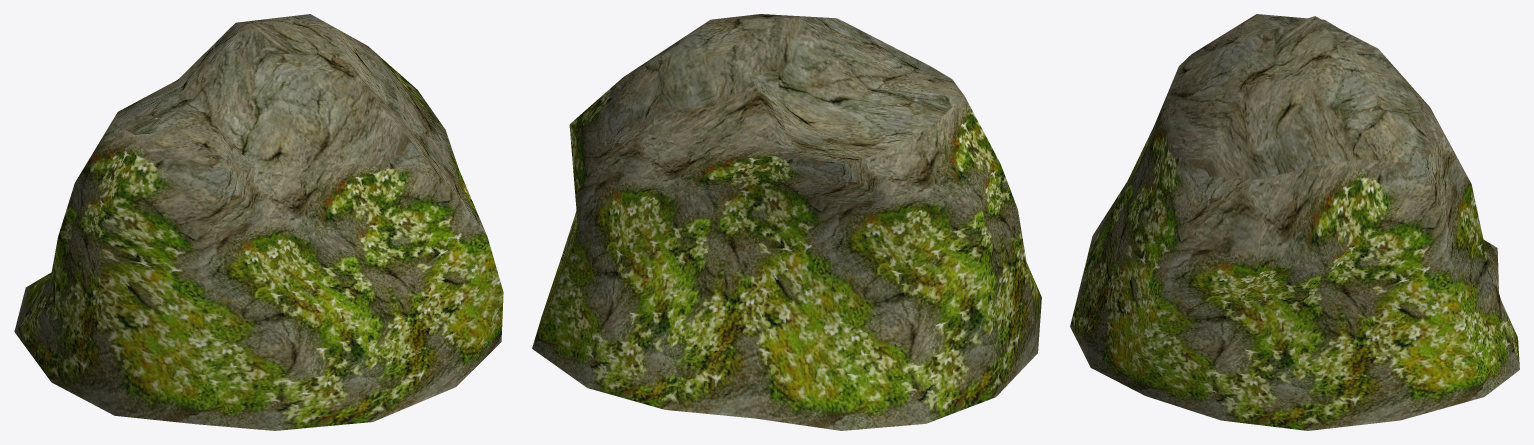
File: rock_liaaba_covered_l0.fbx
3 renders of one model, left to right at view 1: azimuth 30°, elevation 25°; view 2: azimuth 150°, elevation 25°; view 3: azimuth 270°, elevation 25°, orthographic. The views are drawn at different scales.
Visible parts, largest first — view 1: mesh_node; view 2: mesh_node; view 3: mesh_node.
Part boxes in pixels (box(x1,y1,x2,y2)): mesh_node: box(14, 14, 503, 430); mesh_node: box(532, 14, 1041, 430); mesh_node: box(1070, 14, 1519, 430).
Bounding box in the file's own units: 3.4 × 2.48 × 3.21.
